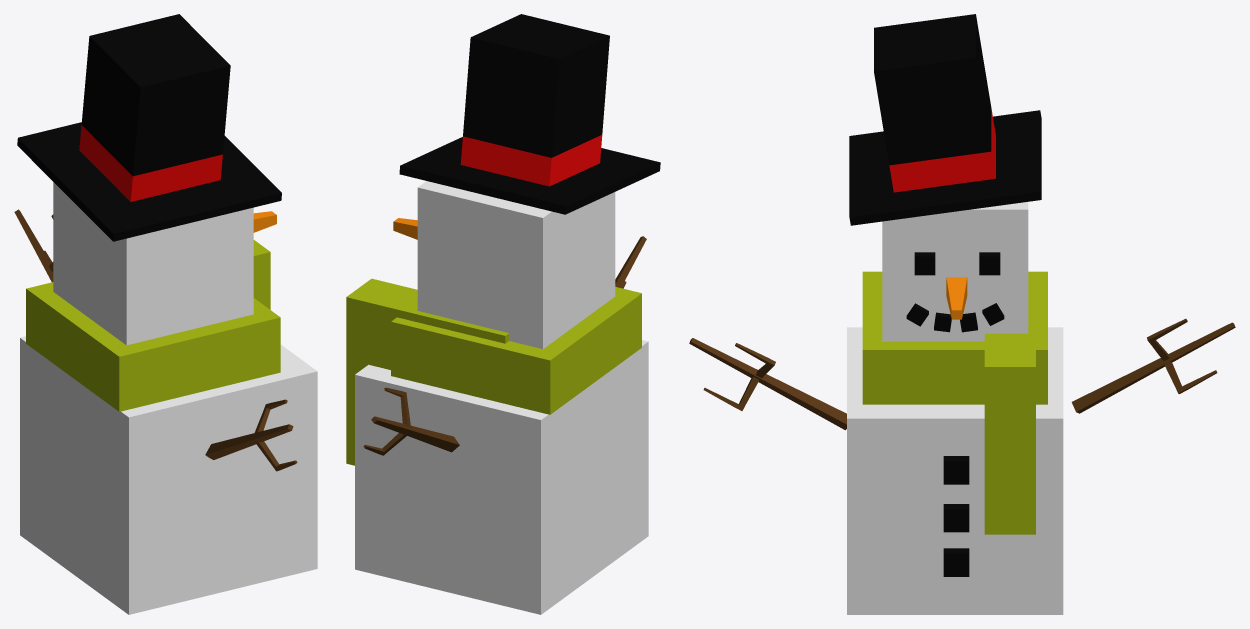
The model's file is Snowman_02.fbx.
3 views of the same model, side by side, from view 1: azimuth 30°, elevation 25°; view 2: azimuth 150°, elevation 25°; view 3: azimuth 270°, elevation 25° (orthographic).
Visible parts, largest first — view 1: Snowman_02; view 2: Snowman_02; view 3: Snowman_02.
Boxes of the visible parts, x1=… form: Snowman_02: x1=14, y1=14, x2=317, y2=614; Snowman_02: x1=346, y1=14, x2=660, y2=614; Snowman_02: x1=689, y1=14, x2=1235, y2=614.
Bounding box in the file's own units: 0.1191 × 0.2657 × 0.2522.
